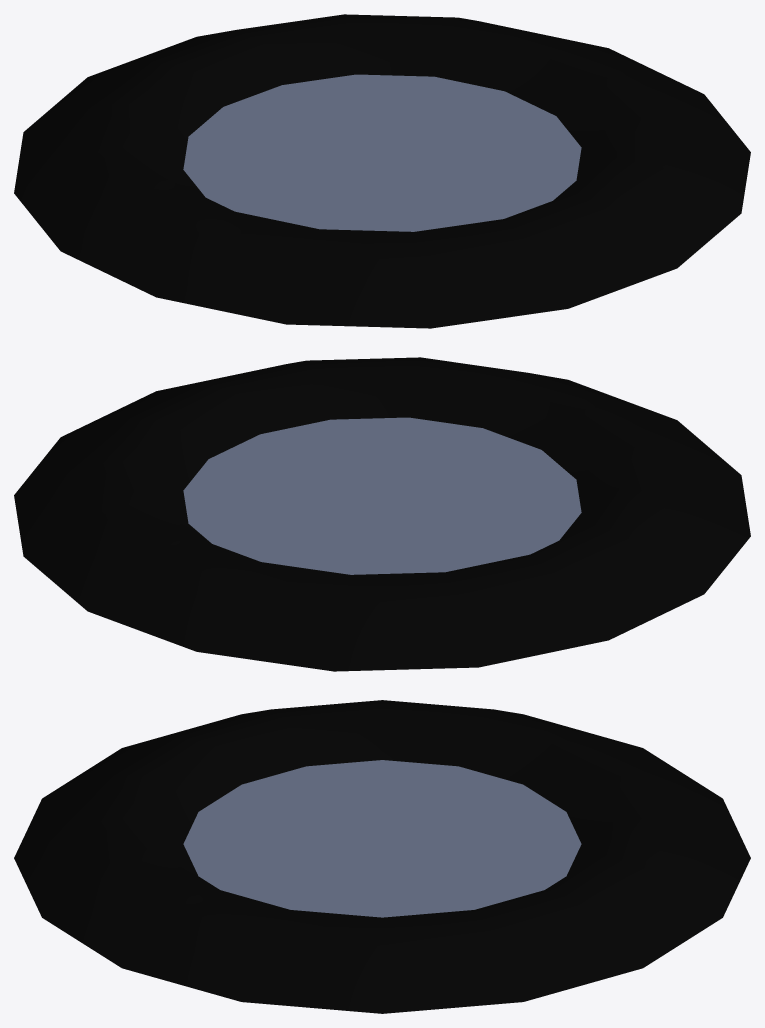
File: SmallCrater.fbx
3 views of the same model, one above another, from view 1: azimuth 30°, elevation 25°; view 2: azimuth 150°, elevation 25°; view 3: azimuth 270°, elevation 25° (orthographic).
Visible parts, largest first — view 1: SmallCrater; view 2: SmallCrater; view 3: SmallCrater.
Part boxes in pixels (x1=…): SmallCrater: x1=14, y1=14, x2=750, y2=328; SmallCrater: x1=14, y1=357, x2=750, y2=671; SmallCrater: x1=14, y1=700, x2=750, y2=1013.
Size of the model in its own units: 1.9 by 0.12 by 1.9.
1 material, 1 textured.
